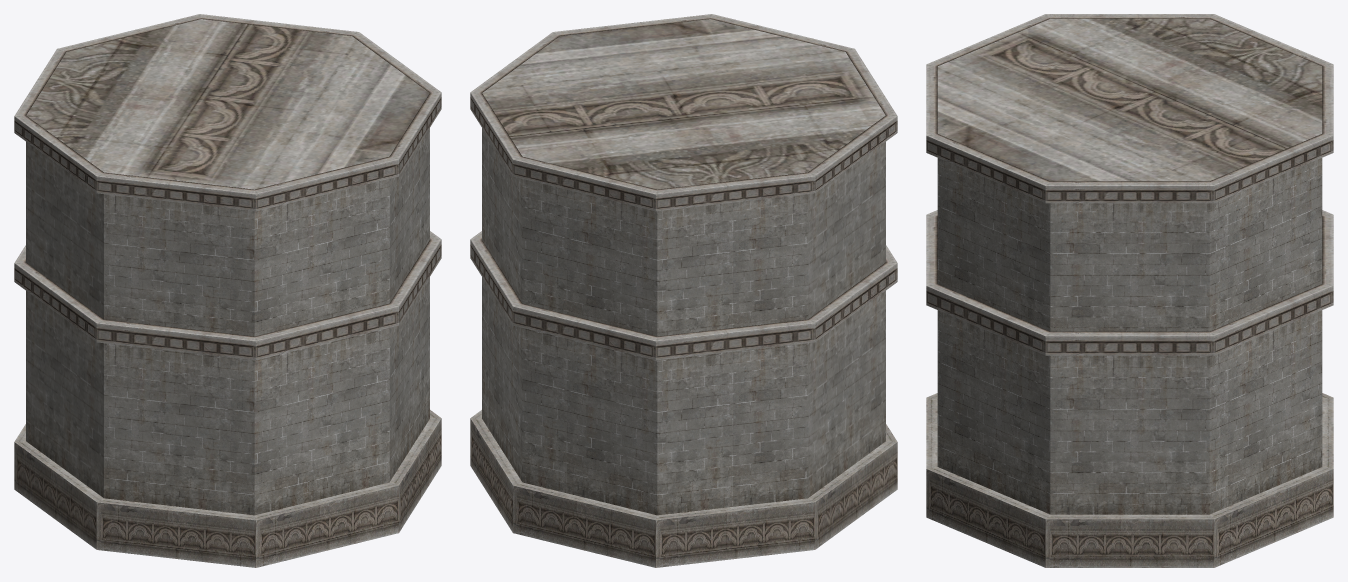
File: bg_lut_lucastle_church04_sm_ksh.FBX
The picture shows the model from 3 angles, left to right: view 1: azimuth 30°, elevation 25°; view 2: azimuth 150°, elevation 25°; view 3: azimuth 270°, elevation 25°; orthographic projection. The views are drawn at different scales.
Parts seen in each view (by area): view 1: bg_lut_lucastle_church04_sm_ksh; view 2: bg_lut_lucastle_church04_sm_ksh; view 3: bg_lut_lucastle_church04_sm_ksh.
Boxes of the visible parts, <box> form: bg_lut_lucastle_church04_sm_ksh: <box>14,14,441,567</box>; bg_lut_lucastle_church04_sm_ksh: <box>470,14,897,567</box>; bg_lut_lucastle_church04_sm_ksh: <box>926,14,1333,567</box>.
Size of the model in its own units: 1042 by 1078 by 1042.
